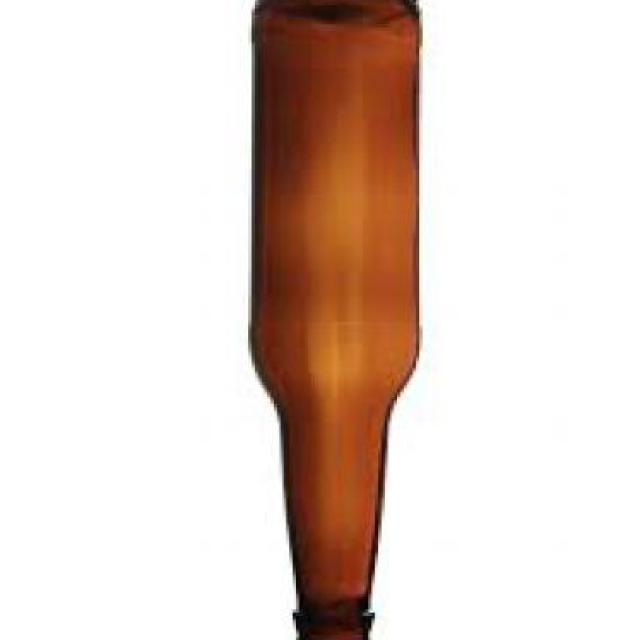kaca: (248, 0, 422, 640)
